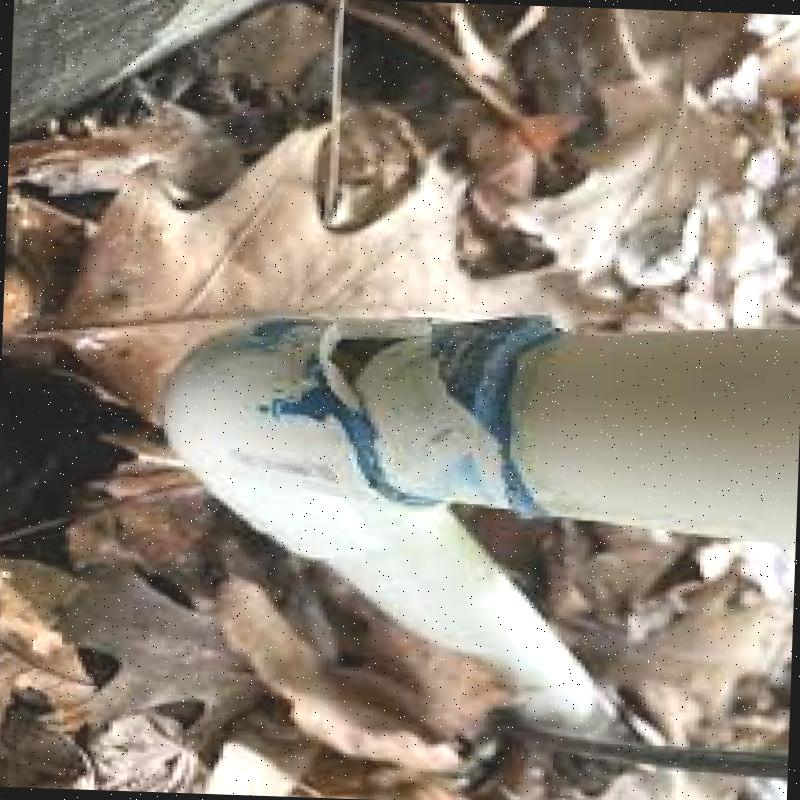Fracture: (320, 322, 368, 379)
